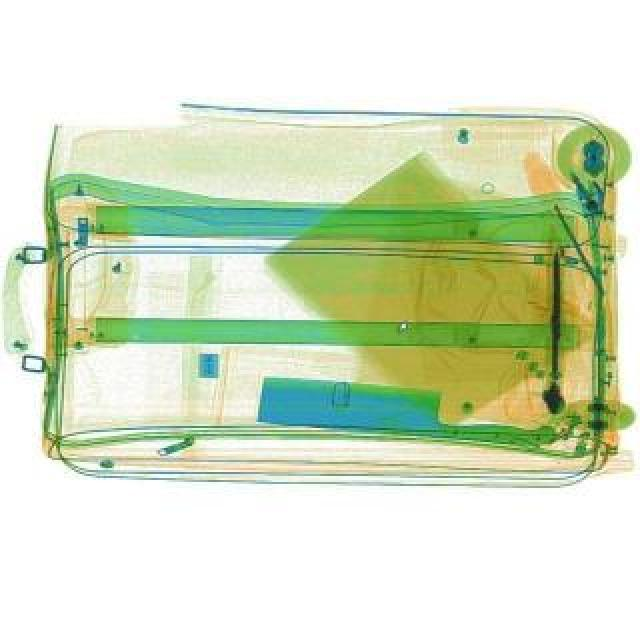knife: (258, 372, 560, 448)
